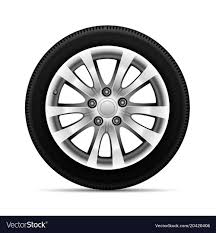l: (98, 86, 111, 97), (110, 115, 123, 126), (87, 97, 98, 110), (92, 115, 103, 126), (117, 97, 127, 106)
